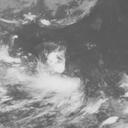cyclone: (38, 48, 83, 97)
